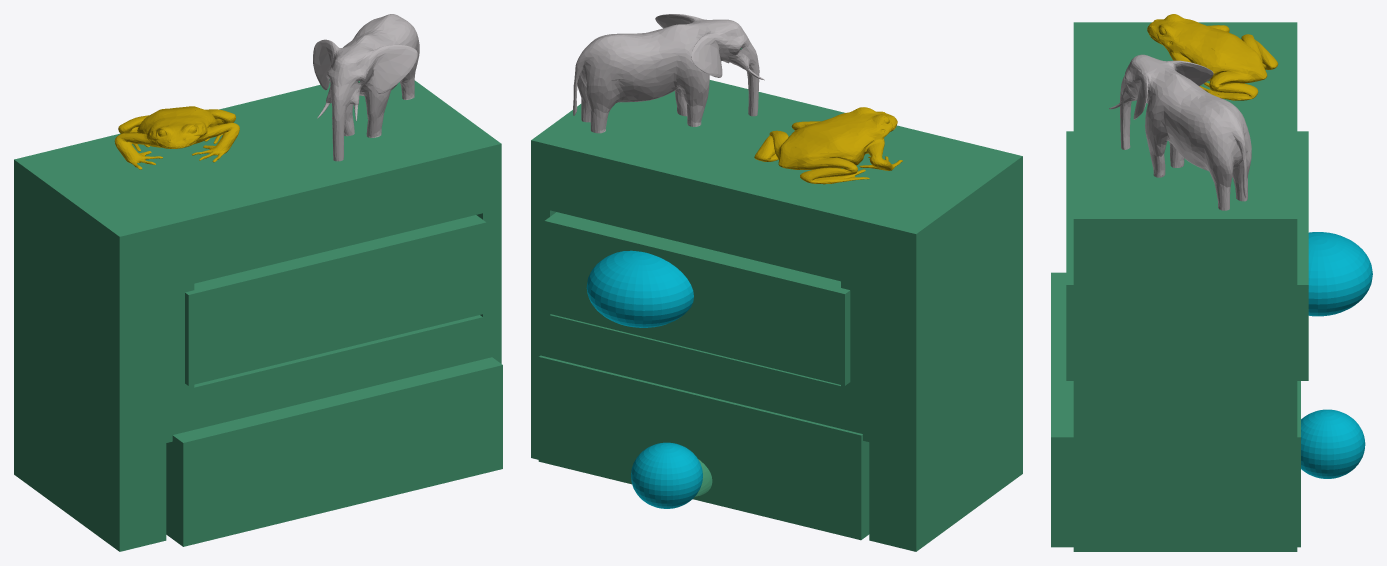
File: Sizzling Blorr.glb
3 renders of one model, left to right at view 1: azimuth 30°, elevation 25°; view 2: azimuth 150°, elevation 25°; view 3: azimuth 270°, elevation 25°, orthographic. The views are drawn at different scales.
Parts seen in each view (by area): view 1: Mesh_Mesh_head_geo.001_lambert2SG.001; view 2: Mesh_Mesh_head_geo.001_lambert2SG.001; view 3: Mesh_Mesh_head_geo.001_lambert2SG.001.
Boxes of the visible parts, x1=… form: Mesh_Mesh_head_geo.001_lambert2SG.001: x1=14, y1=14, x2=502, y2=551; Mesh_Mesh_head_geo.001_lambert2SG.001: x1=531, y1=14, x2=1022, y2=551; Mesh_Mesh_head_geo.001_lambert2SG.001: x1=1051, y1=14, x2=1372, y2=551.
Size of the model in its own units: 123 by 126 by 85.
